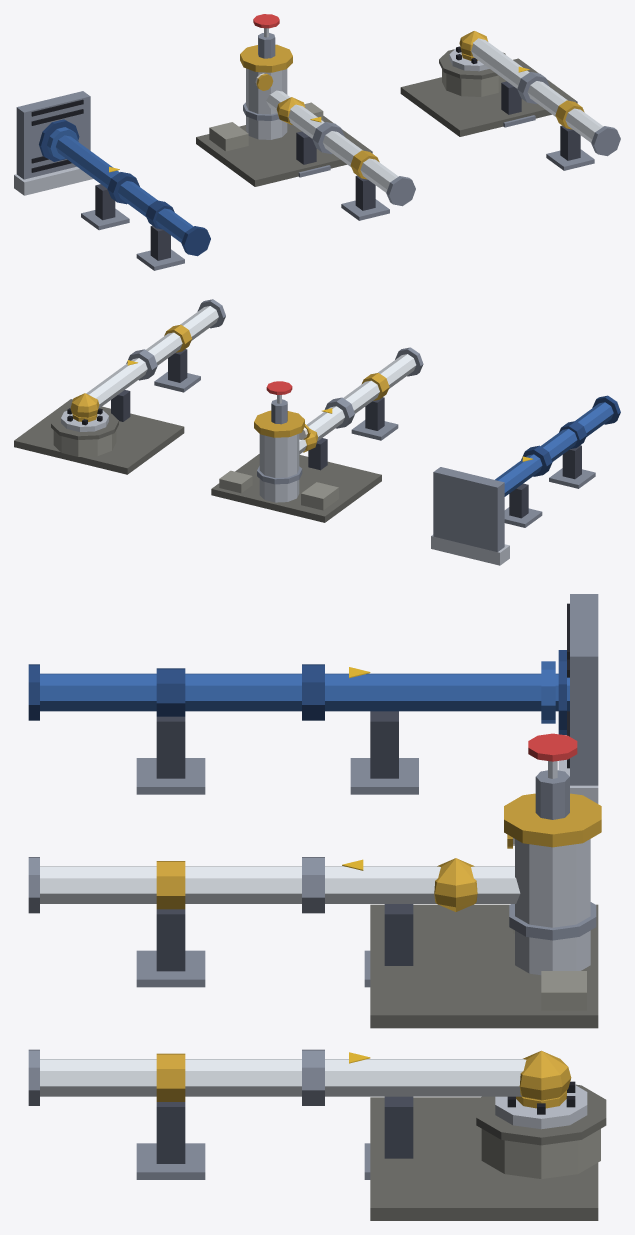
The model's file is wall-ports-preview.glb.
3 renders of one model, top to bottom at view 1: azimuth 30°, elevation 25°; view 2: azimuth 150°, elevation 25°; view 3: azimuth 270°, elevation 25°, orthographic. The views are drawn at different scales.
Parts seen in each view (by area): view 1: wall-ports-preview; view 2: wall-ports-preview; view 3: wall-ports-preview.
Part boxes in pixels (x1,y1,x2,y2): wall-ports-preview: (14,14,620,270); wall-ports-preview: (14,299,620,565); wall-ports-preview: (28,594,606,1220).
Bounding box in the file's own units: 3.94 × 0.885 × 2.03.
Materials: 1 (1 with a texture image).
